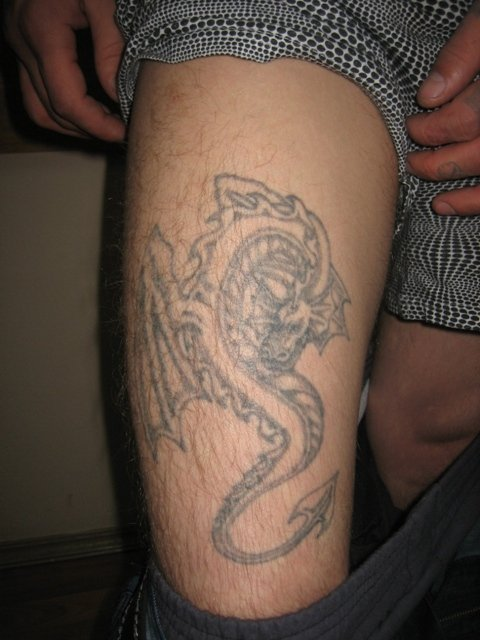tatu6_drakon: (127, 130, 372, 605)
